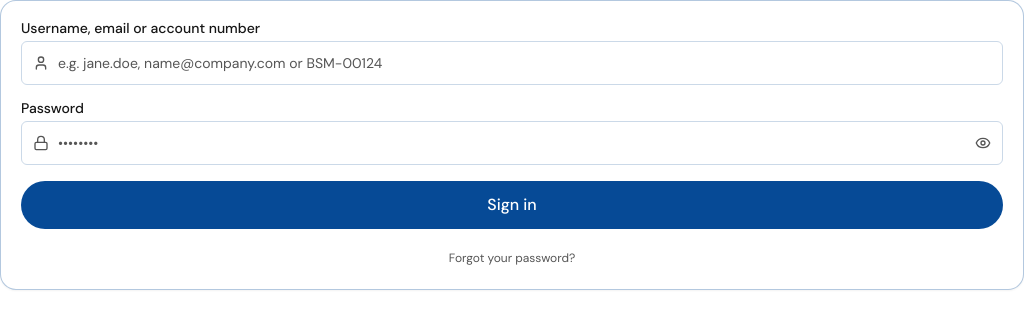
Scenario: OTP verification screen › shows six boxes, the masked email and the countdown; no session before the code
Type "jane.doe" into the field labelled "Username, email or account number". click: (512, 63)
box: [21, 41, 1003, 85]
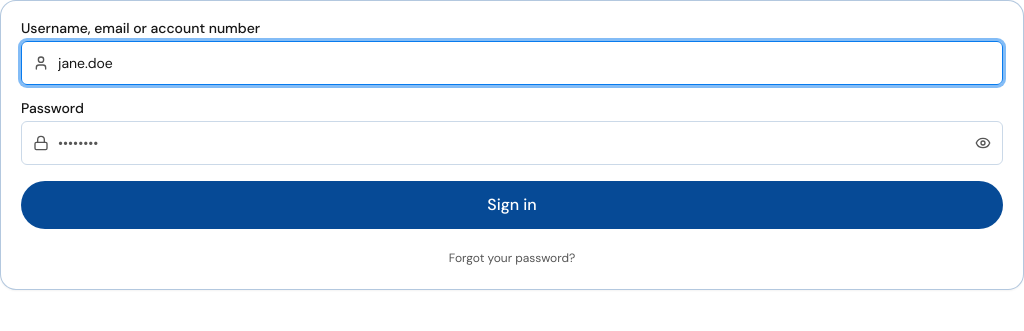
Type "secret-password" into the password field labelled "Password". click: (512, 143)
box: [21, 121, 1003, 165]
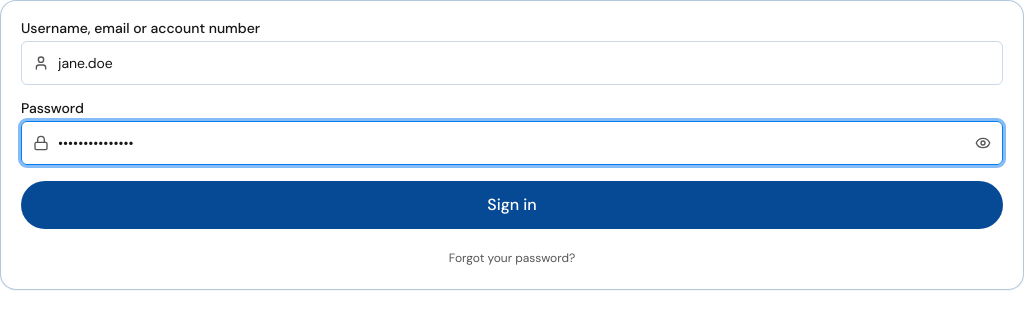
Click the button "Sign in". click: (512, 205)
box: [21, 181, 1003, 229]
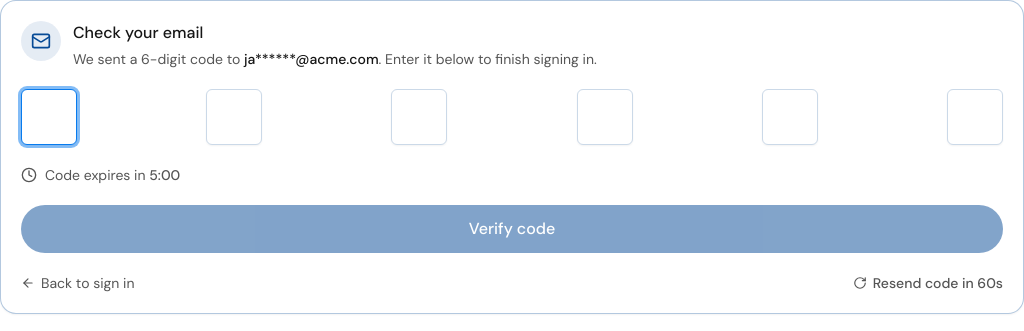
Now the field named "Digit 1 of 6" is shown, box [21, 89, 77, 145]
Now the field named "Digit 6 of 6" is shown, box [947, 89, 1003, 145]
Now the text "ja******@acme.com" is shown, box [244, 50, 379, 68]
